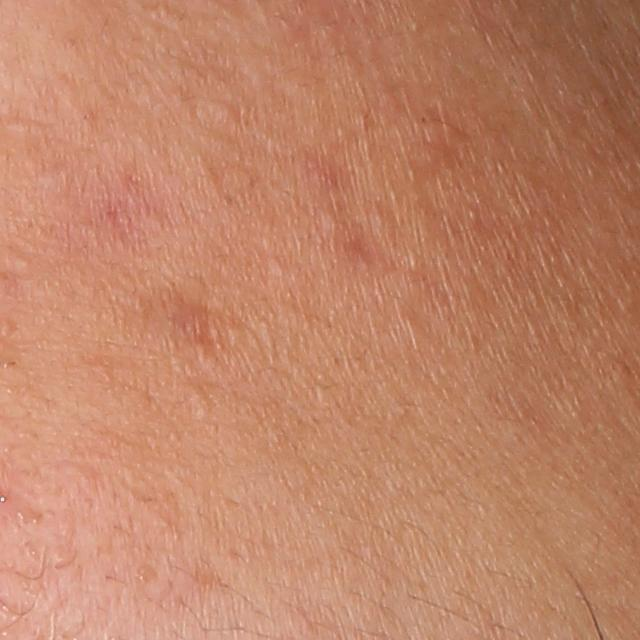comedo: (209, 98, 243, 124), (320, 209, 343, 236)
